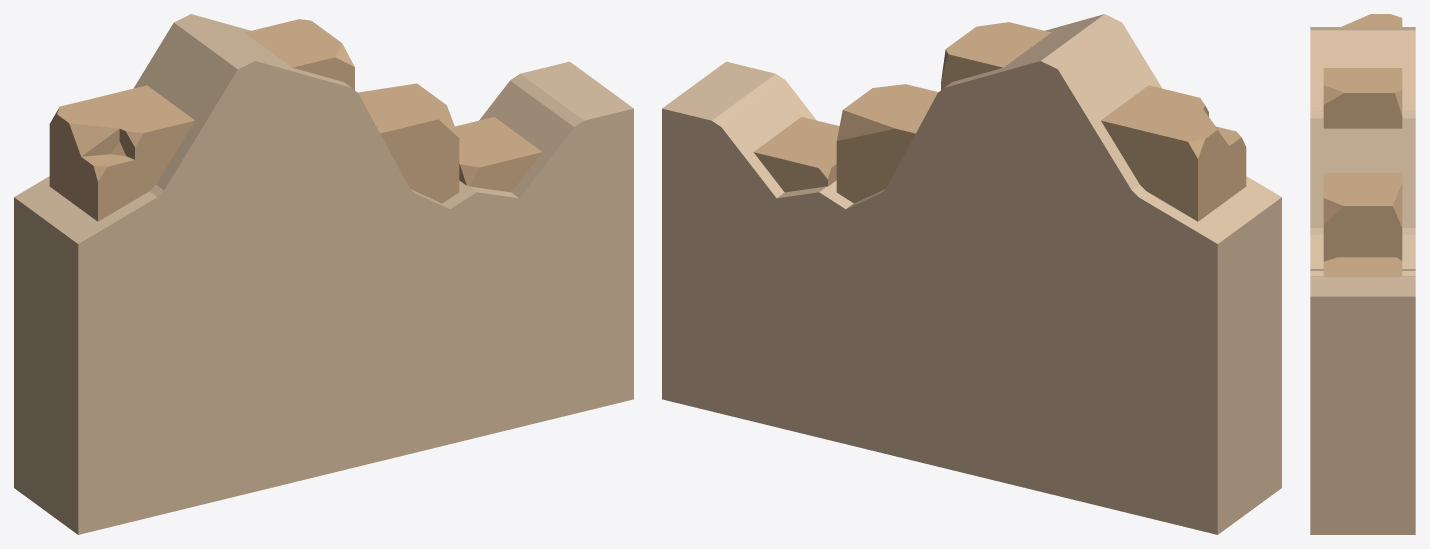
The model's file is Wall_Ruined_Half_1.obj.
3 views of the same model, side by side, from view 1: azimuth 30°, elevation 25°; view 2: azimuth 150°, elevation 25°; view 3: azimuth 270°, elevation 25° (orthographic). The views are drawn at different scales.
Parts seen in each view (by area): view 1: object5, object2, object4, object3, object1; view 2: object5, object2, object4, object3, object1; view 3: object5, object4, object1, object3, object2.
Boxes of the visible parts, bbox=[...] form: object5: bbox=[14, 14, 633, 534]; object2: bbox=[49, 85, 194, 221]; object4: bbox=[358, 83, 459, 203]; object3: bbox=[455, 117, 542, 192]; object1: bbox=[244, 19, 354, 89]; object5: bbox=[662, 14, 1281, 534]; object2: bbox=[1101, 85, 1246, 221]; object4: bbox=[836, 84, 938, 203]; object3: bbox=[753, 117, 839, 192]; object1: bbox=[941, 22, 1051, 89]; object5: bbox=[1310, 27, 1415, 534]; object4: bbox=[1323, 172, 1402, 261]; object1: bbox=[1323, 68, 1402, 128]; object3: bbox=[1323, 257, 1402, 276]; object2: bbox=[1341, 14, 1402, 26].
Size of the model in its own units: 1 by 0.7407 by 0.2.
